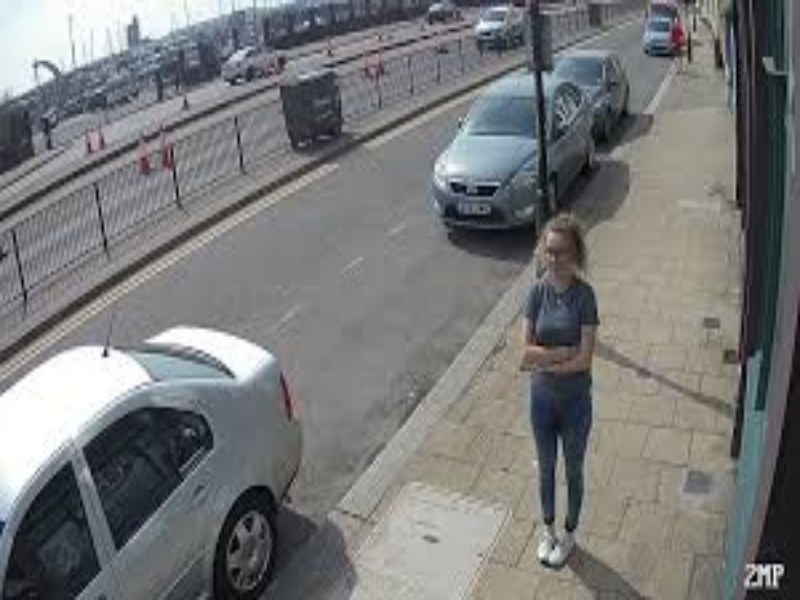person: (512, 216, 604, 572)
